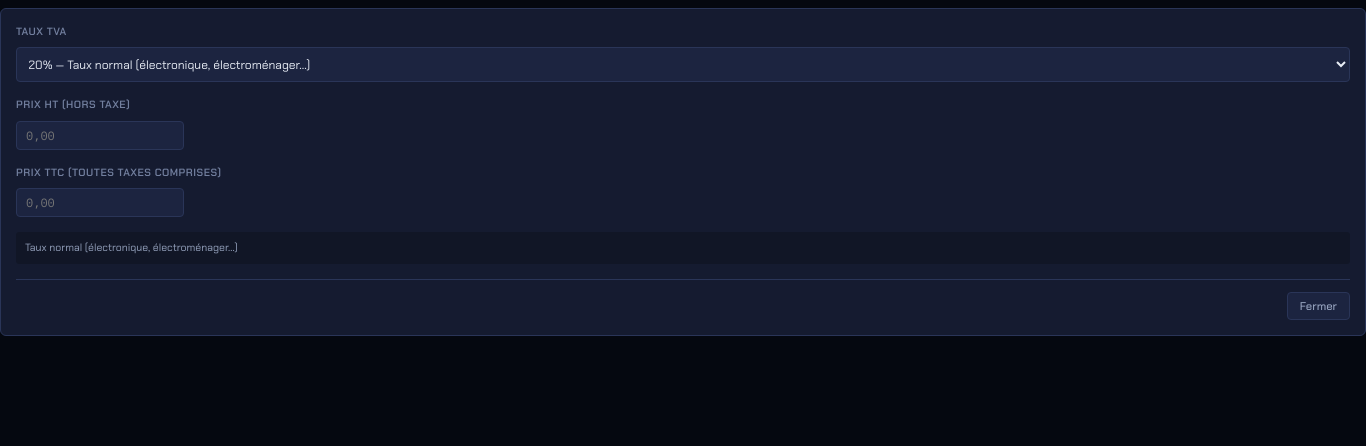
Test: VATCalculator › calculates TTC when HT is entered
Type "100" into the number field named "Prix HT" at (100, 135), box 16,120 -> 184,150
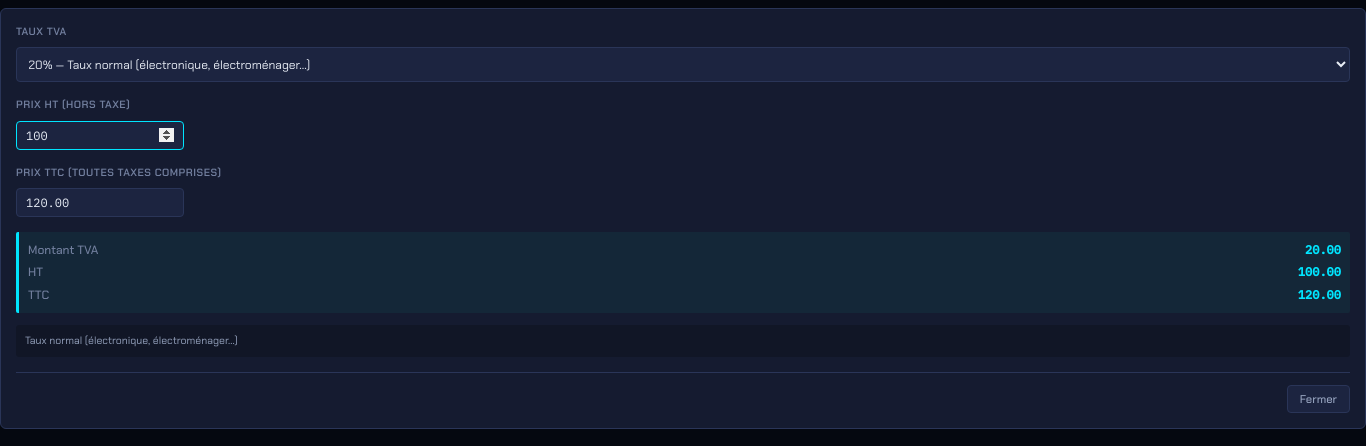
Now the number field named "Prix TTC" holds "120.00", box 16,188 -> 184,217
